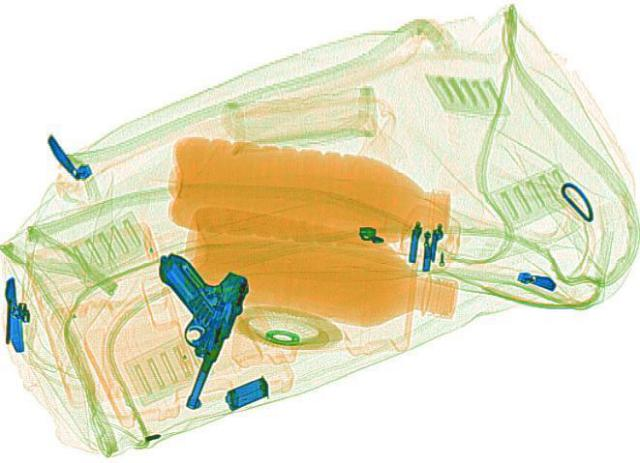Gun: (100, 252, 256, 408)
